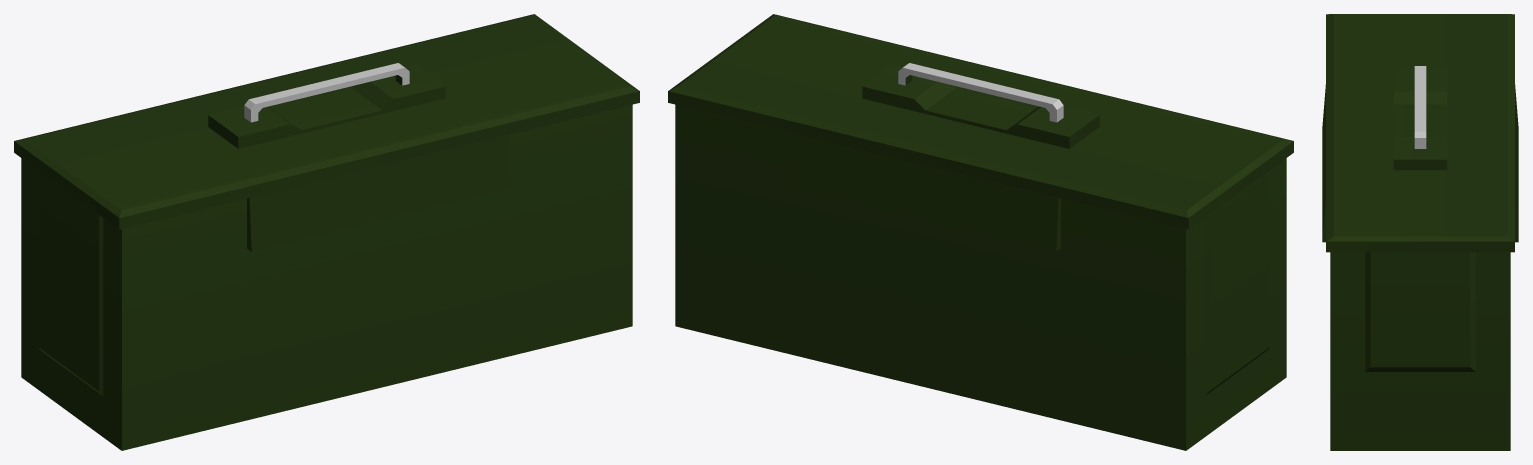
Rendered from Green Ammo Box.fbx.
3 views of the same model, side by side, from view 1: azimuth 30°, elevation 25°; view 2: azimuth 150°, elevation 25°; view 3: azimuth 270°, elevation 25° (orthographic). The views are drawn at different scales.
Parts seen in each view (by area): view 1: Green Ammo Box; view 2: Green Ammo Box; view 3: Green Ammo Box.
Boxes of the visible parts, bbox=[...] form: Green Ammo Box: bbox=[14, 14, 639, 450]; Green Ammo Box: bbox=[668, 14, 1293, 450]; Green Ammo Box: bbox=[1322, 14, 1518, 450].
Bounding box in the file's own units: 54.5 × 26.85 × 19.88.
